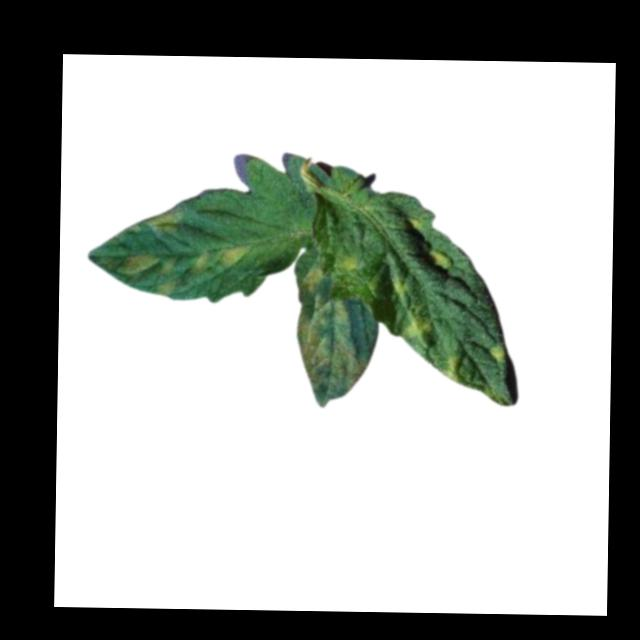Leaf_Mold: (289, 262, 372, 403), (117, 254, 179, 296), (191, 242, 250, 277), (391, 304, 434, 341), (144, 205, 183, 234), (383, 272, 413, 304), (333, 248, 363, 278), (440, 351, 466, 385), (481, 344, 509, 365), (424, 250, 449, 271)
